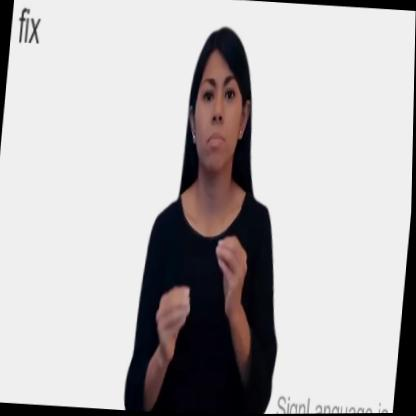Fix: (127, 18, 308, 415)
